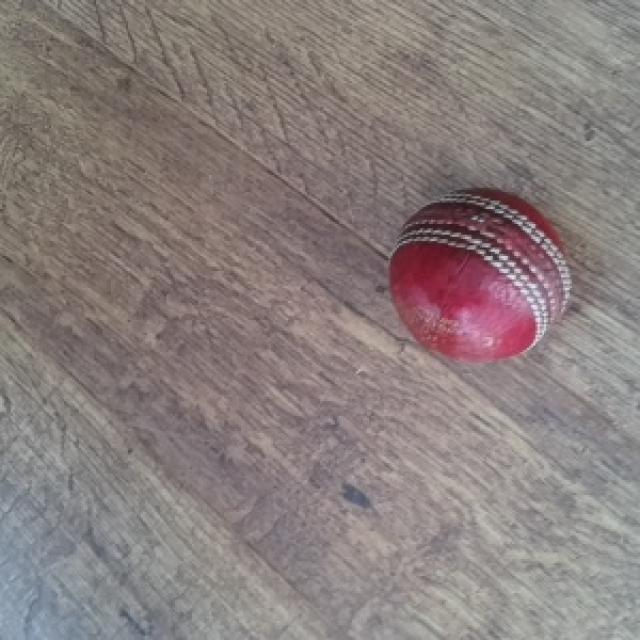ball: (386, 192, 572, 367)
